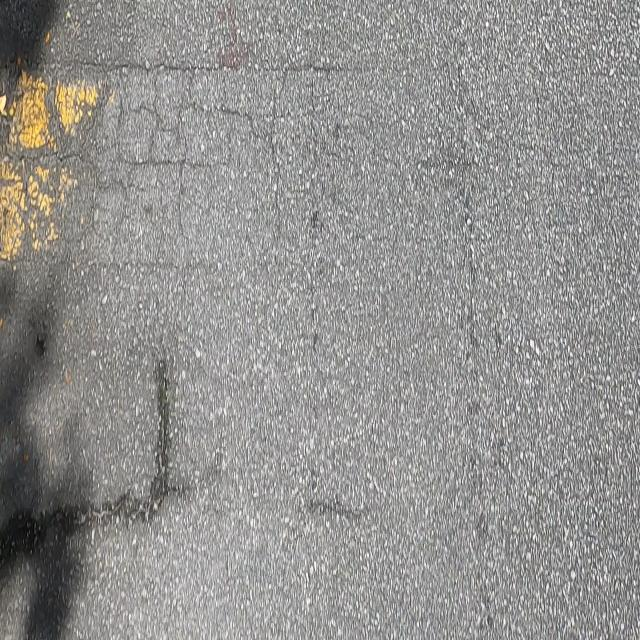Retak-Buaya: (2, 64, 243, 263)
Retak-Melintang: (3, 480, 181, 568)
Retak-Memanjang: (154, 354, 167, 480)
